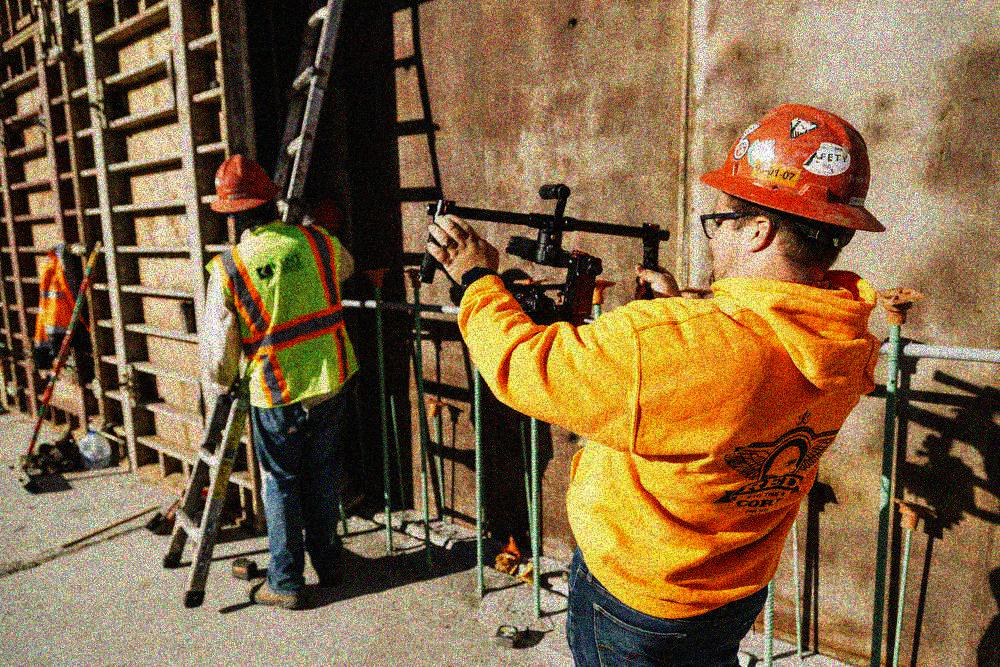helmet: (700, 99, 887, 305), (206, 149, 285, 231)
